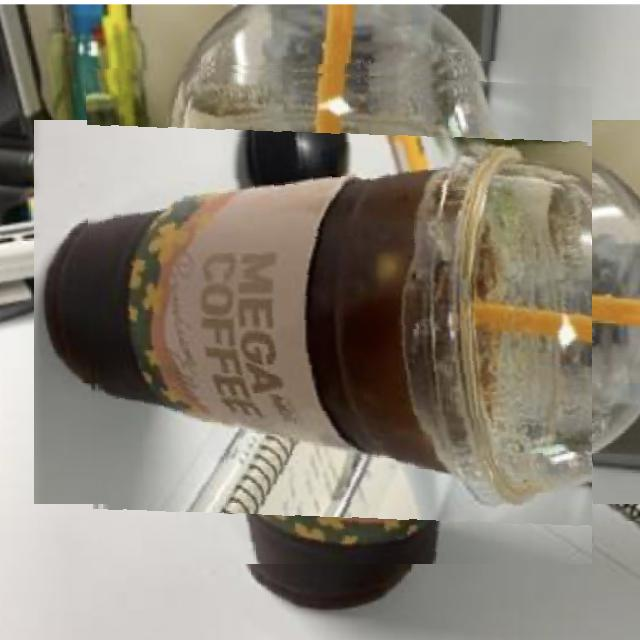recyclable: (88, 61, 592, 564)
